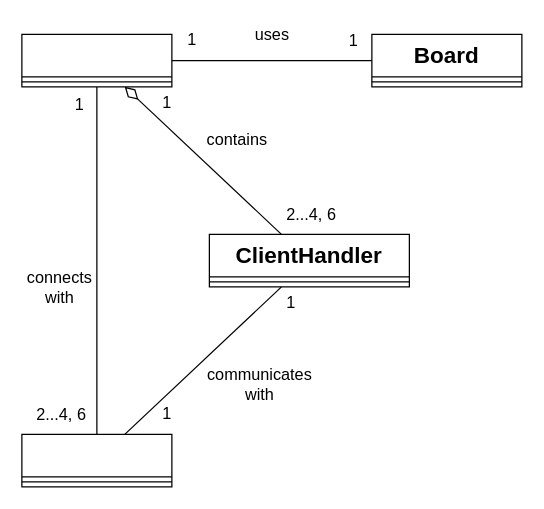
Some shapes in this 544 by 509 pixel diagram are drawn without their labels. The shapes that lost their labels are listed below. From the top down, each one's centre as x and y in pixels, then its label:
At point (96, 60): "Server".
At point (96, 460): "Client".
